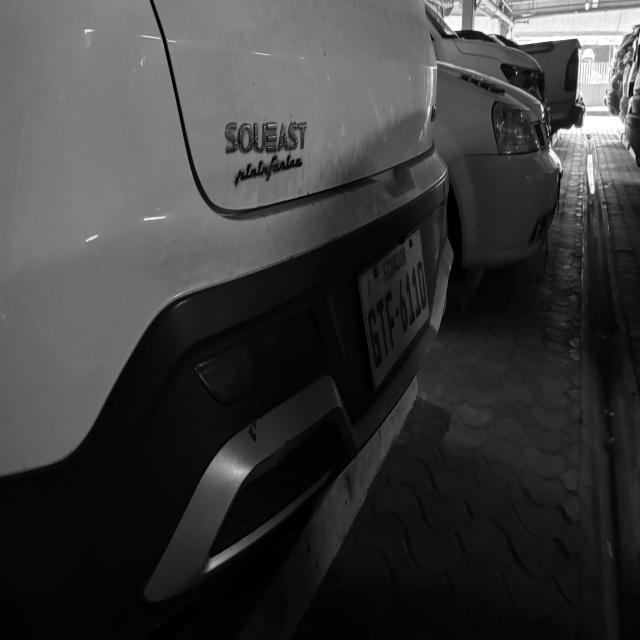Placa: (359, 229, 430, 389)
